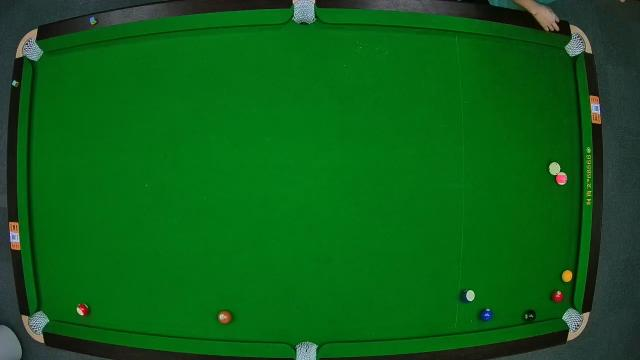bag1: (20, 40, 42, 62)
bag2: (292, 2, 316, 26)
bag3: (566, 36, 586, 58)
bag4: (29, 311, 49, 333)
bag5: (295, 340, 319, 360)
bag6: (562, 308, 582, 330)
ball0: (547, 162, 561, 174)
ball1: (560, 268, 576, 284)
ball10: (460, 289, 476, 305)
ball11: (76, 302, 90, 318)
ball12: (556, 172, 568, 186)
ball2: (480, 308, 494, 322)
ball3: (552, 289, 564, 303)
ball7: (217, 309, 233, 325)
ball8: (524, 310, 536, 324)
